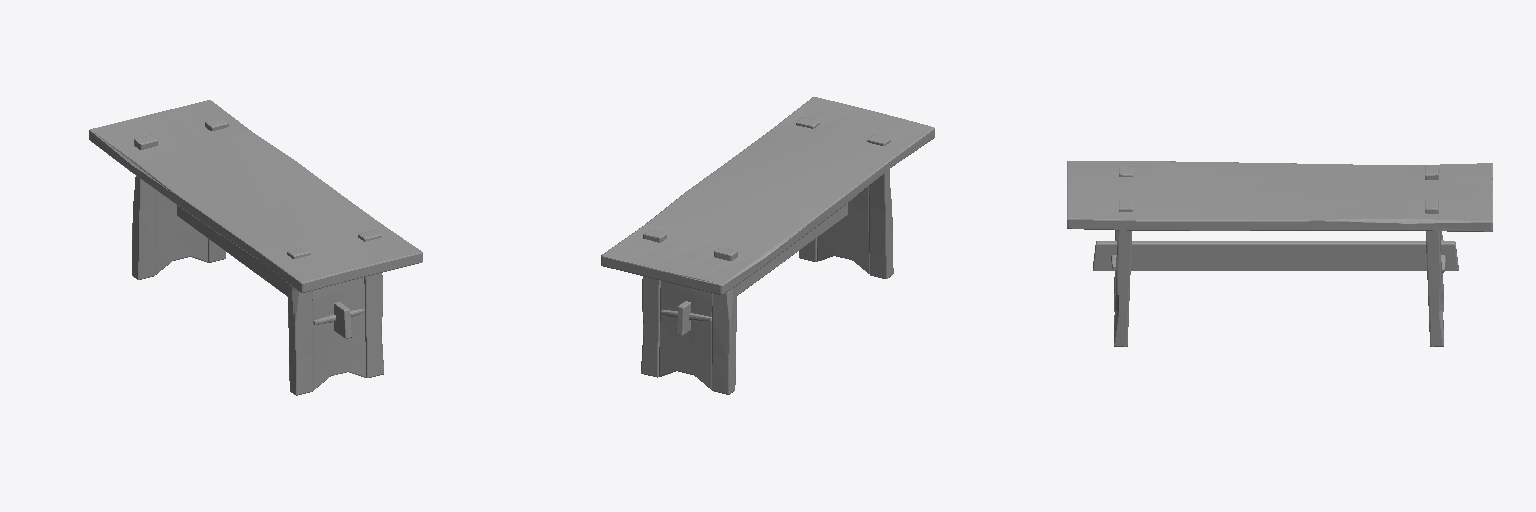
The model's file is bench0.obj.
The picture shows the model from 3 angles: view 1: azimuth 30°, elevation 25°; view 2: azimuth 150°, elevation 25°; view 3: azimuth 270°, elevation 25°; orthographic projection.
Visible parts, largest first — view 1: Bench_Untitled; view 2: Bench_Untitled; view 3: Bench_Untitled.
Part boxes in pixels (bbox=[...]): Bench_Untitled: bbox=[89, 100, 422, 395]; Bench_Untitled: bbox=[601, 97, 934, 394]; Bench_Untitled: bbox=[1067, 161, 1492, 346].
Size of the model in its own units: 1.5 by 1.63 by 4.54.